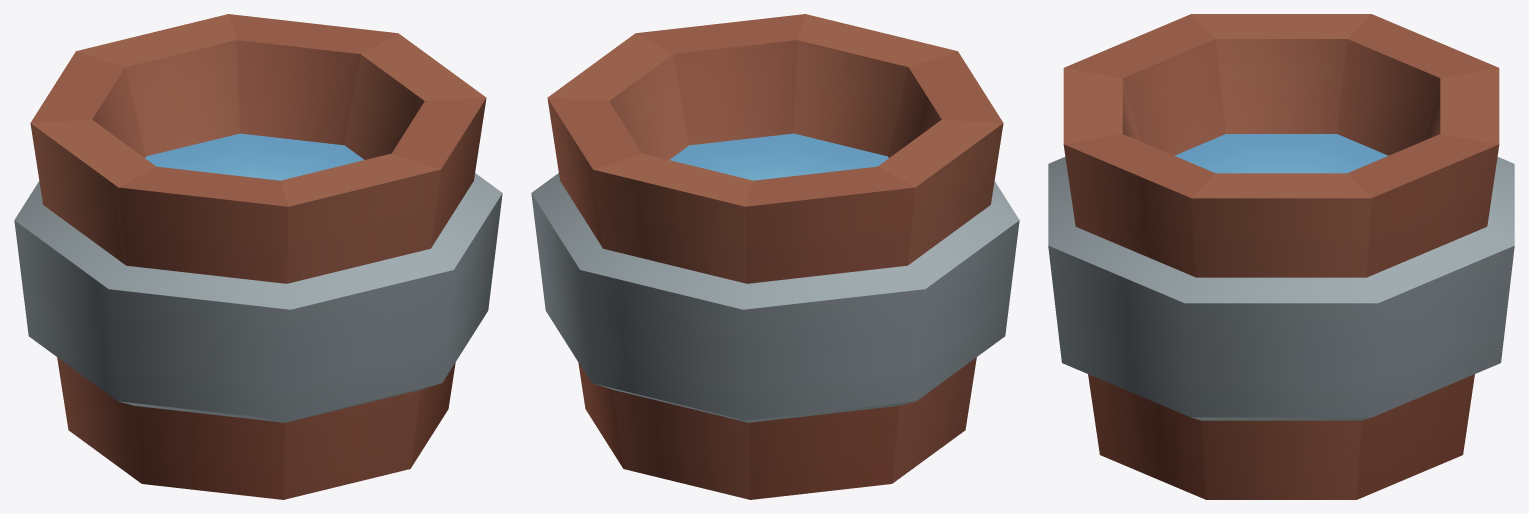
File: bucket_water.glb
3 views of the same model, side by side, from view 1: azimuth 30°, elevation 25°; view 2: azimuth 150°, elevation 25°; view 3: azimuth 270°, elevation 25° (orthographic). The views are drawn at different scales.
Parts seen in each view (by area): view 1: bucket_water; view 2: bucket_water; view 3: bucket_water.
Part boxes in pixels (left/top/right/bottom): bucket_water: left=14, top=14, right=502, bottom=499; bucket_water: left=531, top=14, right=1019, bottom=499; bucket_water: left=1048, top=14, right=1514, bottom=499.
Size of the model in its own units: 0.14 by 0.105 by 0.14.
1 material, 1 textured.
